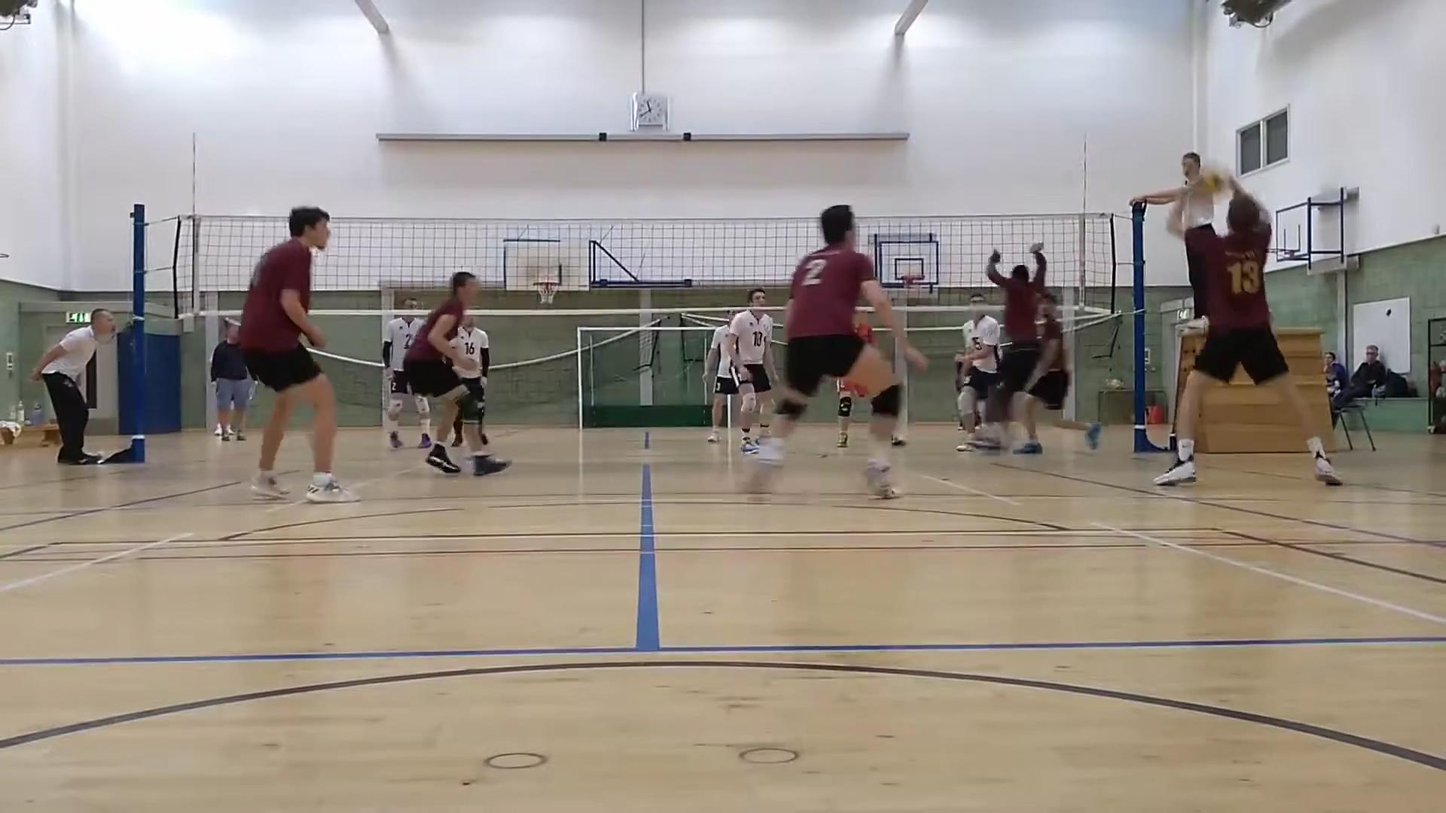Dig: (1140, 172, 1344, 492)
Player: (749, 205, 926, 498), (239, 207, 356, 502), (404, 272, 509, 475), (974, 243, 1046, 450), (1015, 291, 1071, 453), (724, 288, 777, 453), (382, 298, 432, 448), (453, 315, 490, 453), (704, 318, 738, 443), (954, 293, 986, 400), (837, 379, 868, 448)
ball: (1193, 169, 1233, 191)
